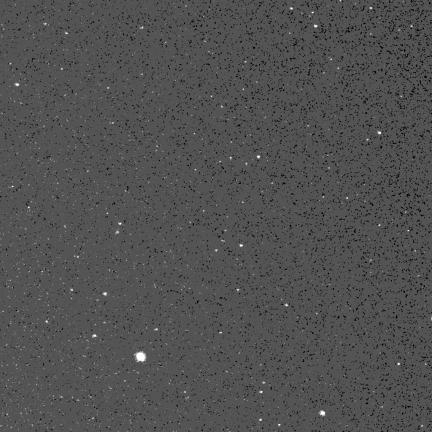blob: (320, 411, 325, 416), (15, 83, 19, 86)
